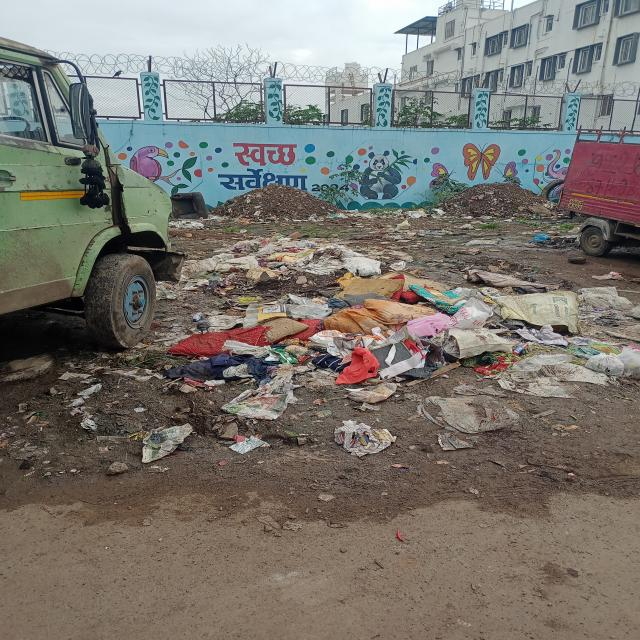garbage: (193, 243, 640, 416), (225, 184, 359, 217), (442, 186, 555, 218), (361, 204, 447, 222), (173, 198, 218, 232)
